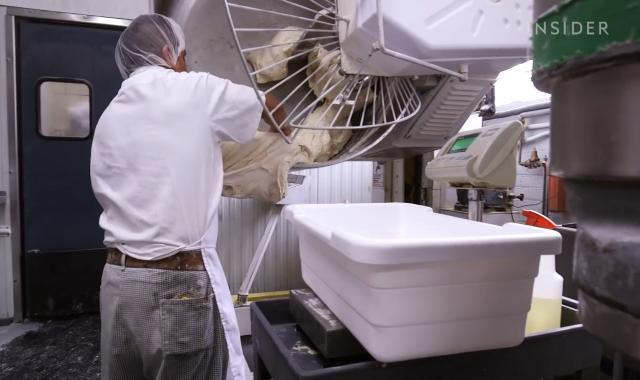Apron: (174, 85, 257, 380)
Hairnet: (110, 8, 188, 85)
No_Glove: (263, 121, 297, 148)
